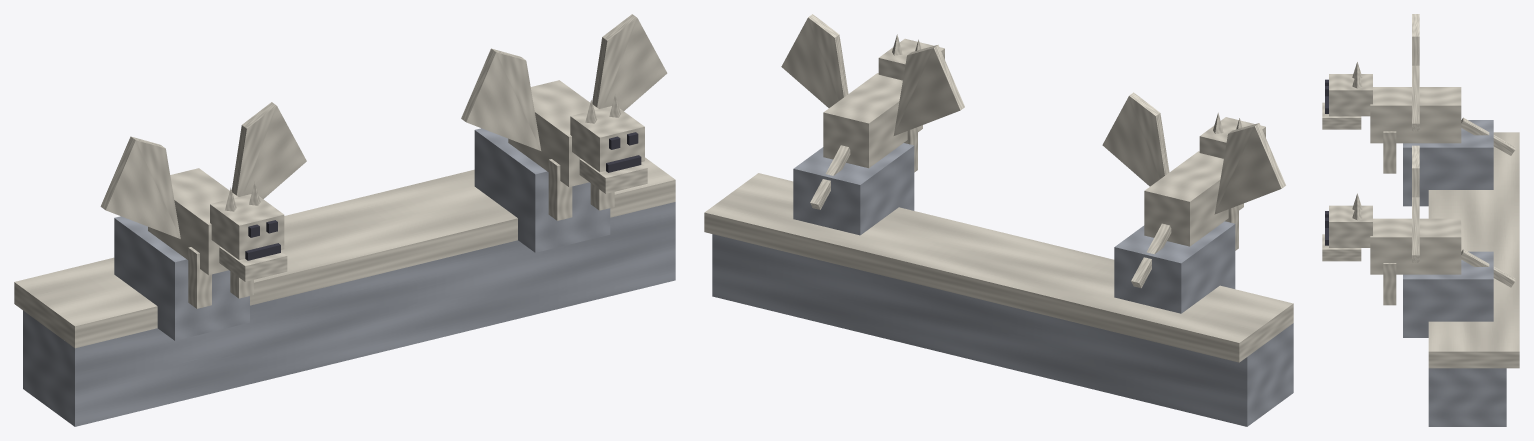
File: vampire-crypt-and-gothic-cathedral-gargoyle-cornice-4beb585f__22963.glb
The picture shows the model from 3 angles, left to right: view 1: azimuth 30°, elevation 25°; view 2: azimuth 150°, elevation 25°; view 3: azimuth 270°, elevation 25°; orthographic projection. The views are drawn at different scales.
Parts seen in each view (by area): view 1: gargoyle-cornice; view 2: gargoyle-cornice; view 3: gargoyle-cornice.
Part boxes in pixels (box(x1,y1,x2,y2)): gargoyle-cornice: box(14, 14, 675, 426); gargoyle-cornice: box(704, 14, 1293, 426); gargoyle-cornice: box(1322, 14, 1519, 426).
Size of the model in its own units: 4 by 1.8 by 1.52.
Materials: 3 (2 with a texture image).
